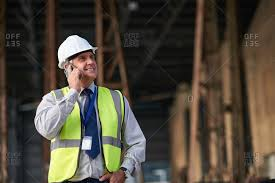Person_wearing_helmet: (52, 28, 100, 70)
